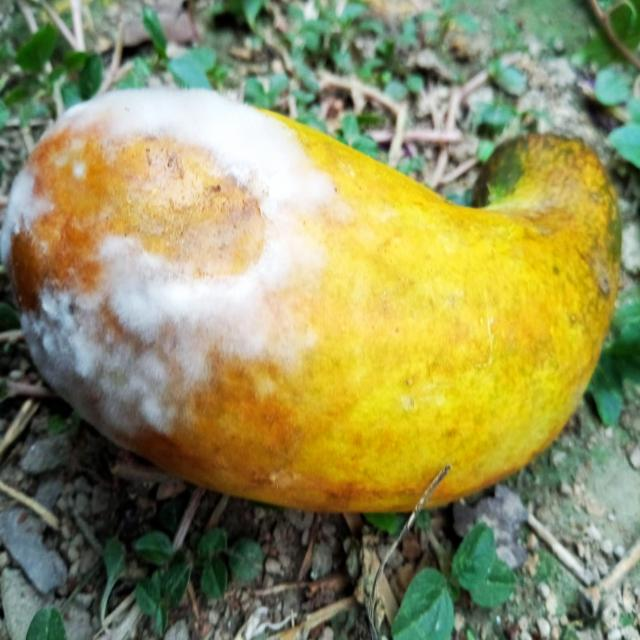Pythium-Fruit-Rot: (1, 86, 329, 446)
